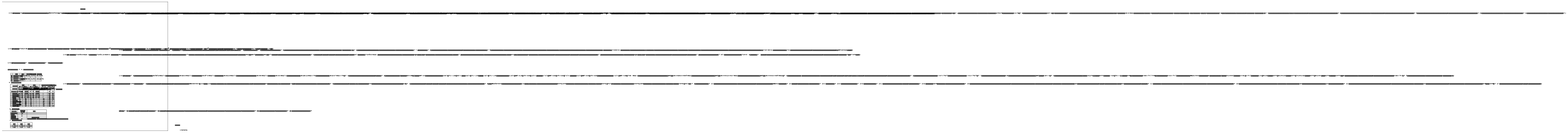corridor: (78, 51, 371, 59), (78, 3, 283, 9)
door: (352, 48, 357, 51)
room: (78, 25, 496, 48), (78, 12, 419, 22)
